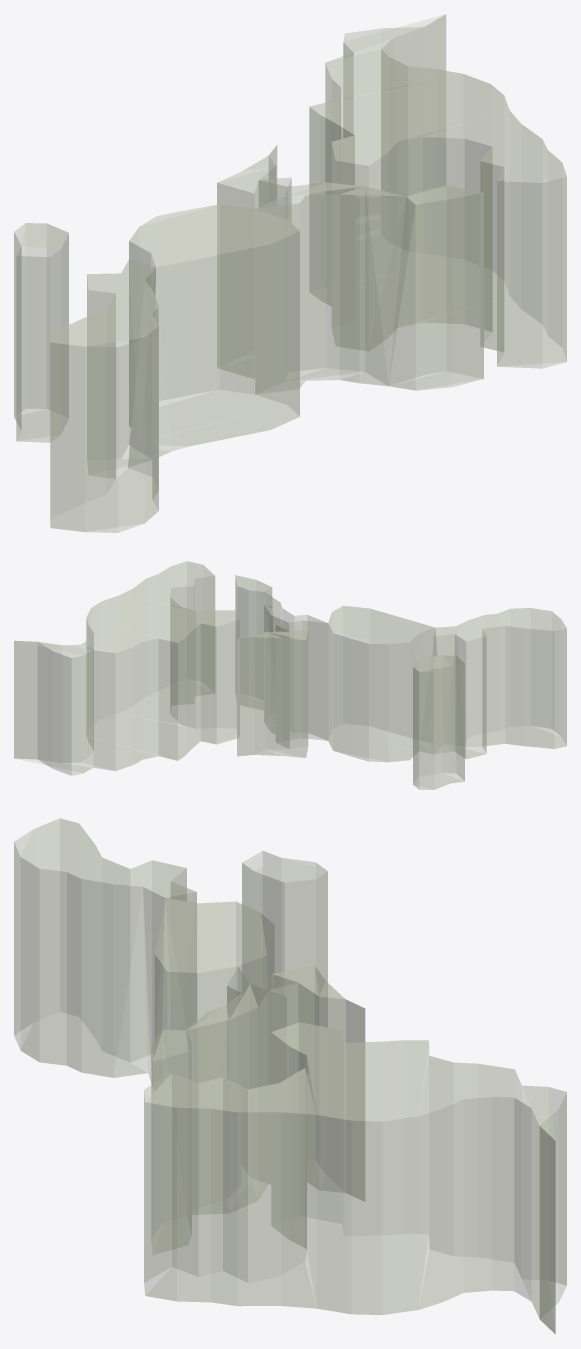
File: developement_area_1_0.glb
3 renders of one model, top to bottom at view 1: azimuth 30°, elevation 25°; view 2: azimuth 150°, elevation 25°; view 3: azimuth 270°, elevation 25°, orthographic. The views are drawn at different scales.
Visible parts, largest first — view 1: mesh_CityEngineMaterial; view 2: mesh_CityEngineMaterial; view 3: mesh_CityEngineMaterial.
Part boxes in pixels (x1,y1,x2,y2): mesh_CityEngineMaterial: [14, 14, 566, 532]; mesh_CityEngineMaterial: [14, 561, 566, 789]; mesh_CityEngineMaterial: [14, 818, 566, 1334].
Bounding box in the file's own units: 0.0357 × 0.01 × 0.0259.
